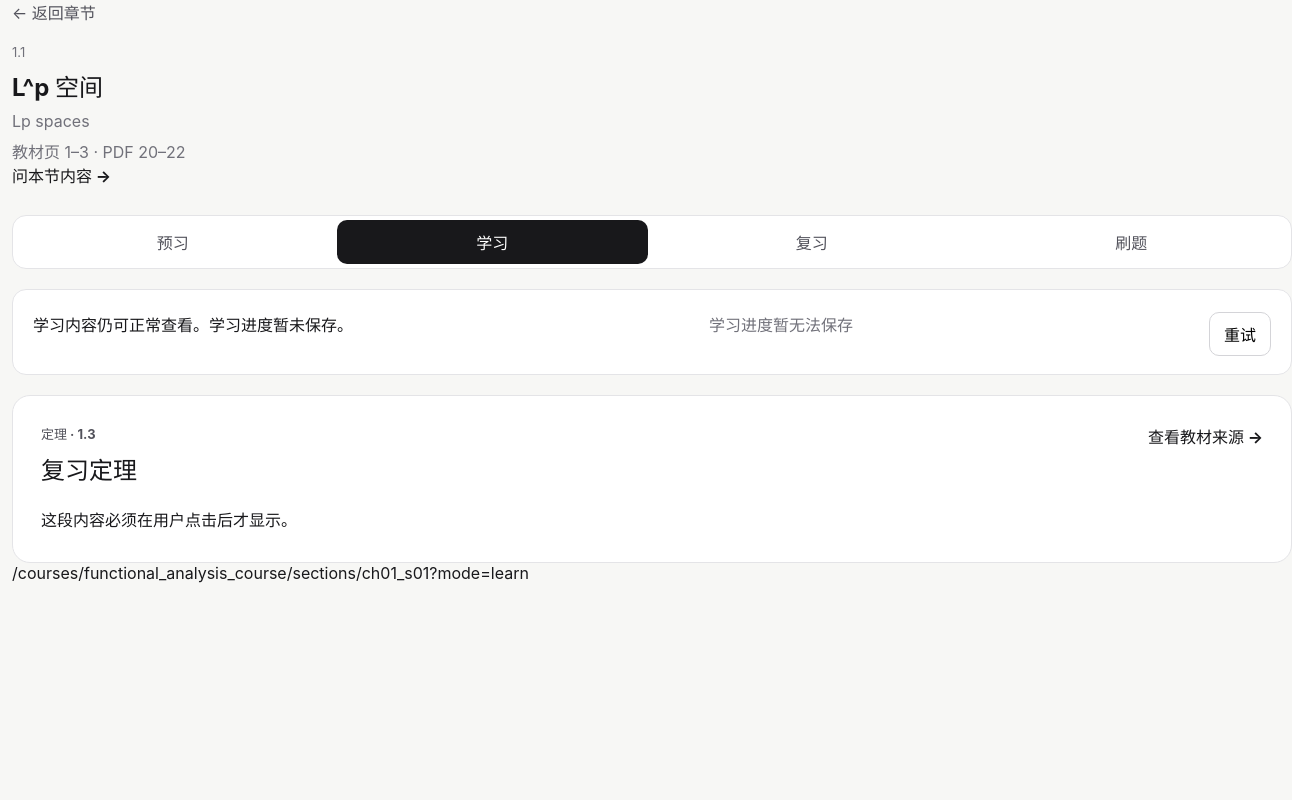
Test: SectionPage › keeps textbook content readable when progress persistence fails and retries explicitly
(page scrolled)
Expected: the heading "L^p 空间" is shown, [12,73,103,102]
Expected: the heading "复习定理" is shown, [41,451,137,486]
Click the button "重试": [1240, 334] box [1209,312,1271,356]
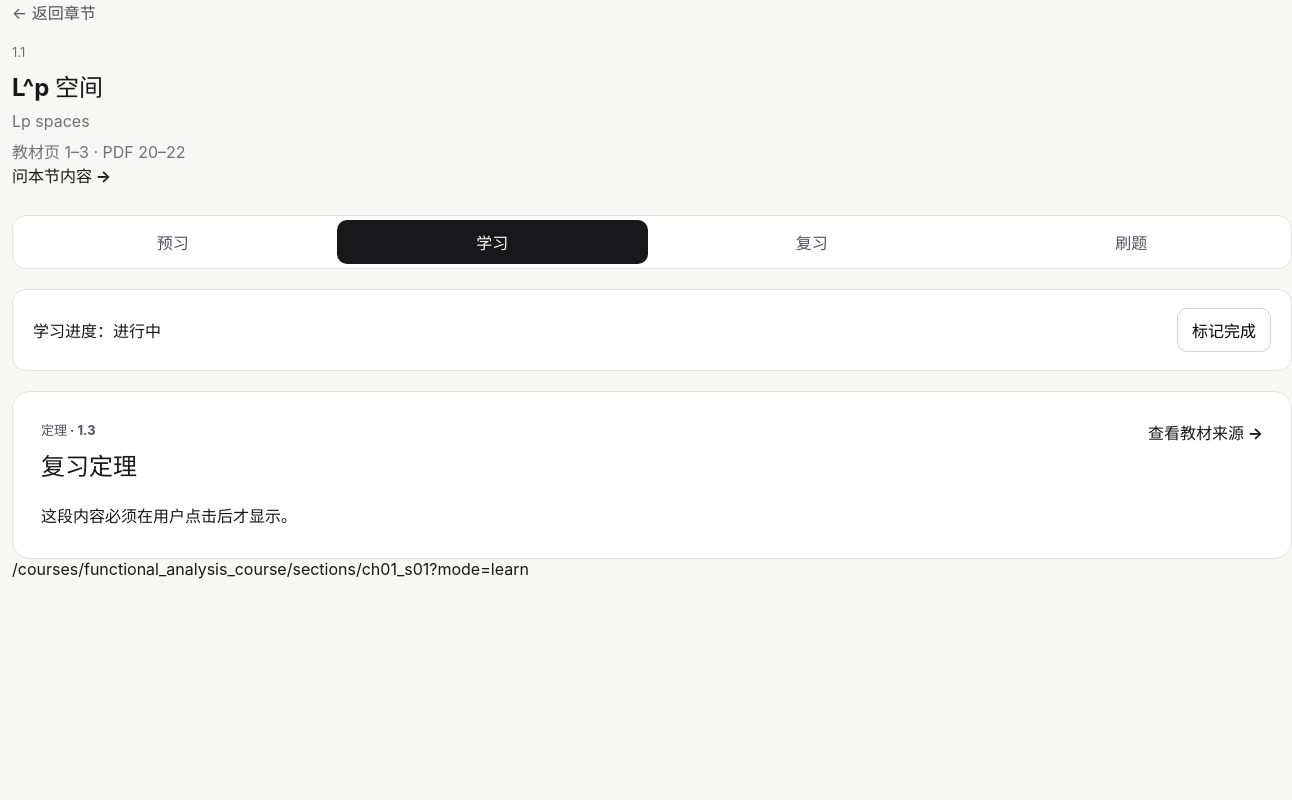
Expected: the text "学习内容仍可正常查看。学习进度暂未保存。" is gone
Expected: the text "学习进度：进行中" is shown, [33,318,161,342]
